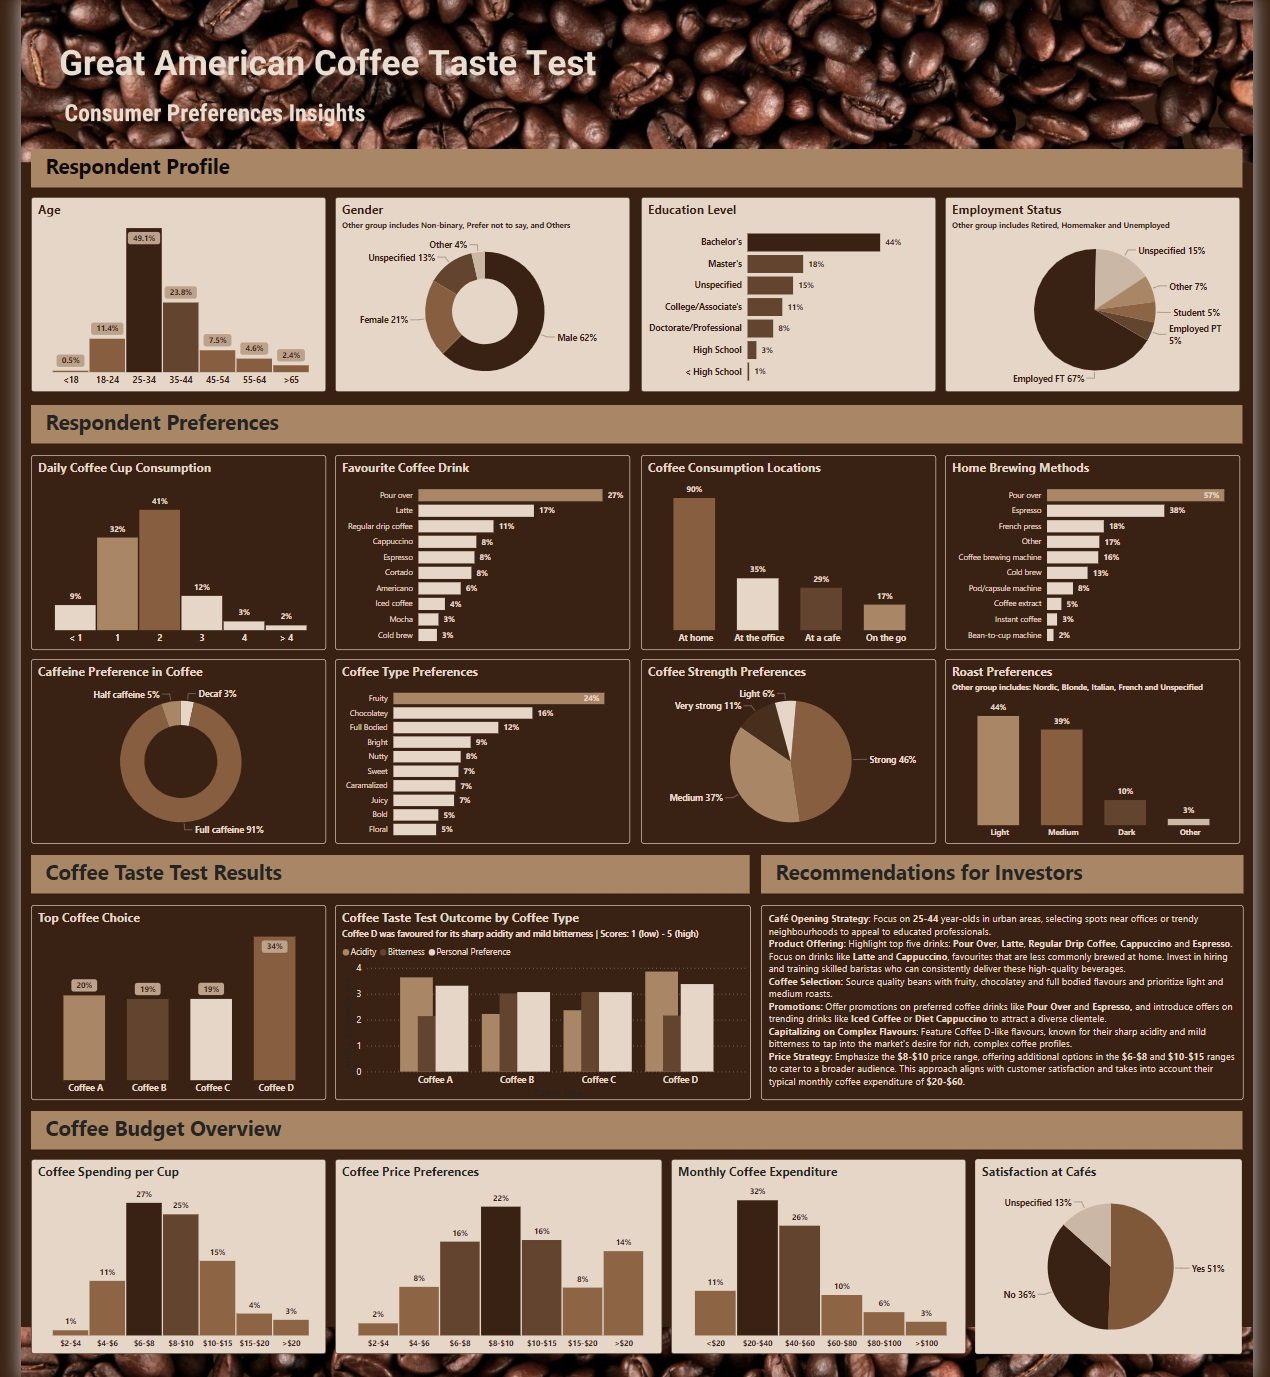

The dashboard page shown, as its layout file describes it:
{"tool":"powerbi","page":{"name":"Coffee Report","canvas":[1920,2160],"ordinal":0},"visuals":[{"type":"lineStackedColumnComboChart","title":" Daily Coffee Cup Consumption","fields":{"Category":["Cups per Day.# of Cups per Day"],"Y":["Measure Table.COUNT Percentage"]},"box":[16,716,460,304],"z":0},{"type":"donutChart","title":"Gender","fields":{"Y":["Measure Table.COUNT"],"Category":["Responses.Gender (groups)"]},"box":[490,316,460,304],"z":1000},{"type":"barChart","title":"Education Level","fields":{"Category":["Responses.Education Level"],"Y":["Measure Table.COUNT Percentage"]},"box":[965,316,460,304],"z":2000},{"type":"pieChart","title":"Employment Status","fields":{"Category":["Responses.Employment Status (groups)"],"Y":["Measure Table.COUNT"]},"box":[1440,316,460,304],"z":3000},{"type":"barChart","title":"Home Brewing Methods","fields":{"Category":["How to Brew.How do you brew coffee at home?"],"Y":["How to Brew.Sum of Values How Percentage"]},"box":[1440,716,460,304],"z":4000},{"type":"columnChart","title":"Coffee Consumption Locations","fields":{"Category":["Where to Drink.Where do you drink coffee?"],"Y":["Where to Drink.Sum of Values Percentage"]},"box":[965.3,716,460,304],"z":5000},{"type":"barChart","title":"Favourite Coffee Drink","fields":{"Category":["Responses.Favorite coffee drink"],"Y":["Measure Table.COUNT Percentage"]},"box":[490.7,716,460,304],"z":6000},{"type":"columnChart","title":"Age","fields":{"Category":["Age Table.Age"],"Y":["Measure Table.COUNT Percentage"]},"box":[15,316,460,304],"z":7000},{"type":"clusteredBarChart","title":"Coffee Type Preferences ","fields":{"Category":["Responses.What kind of coffee you like?"],"Y":["Measure Table.COUNT Percentage"]},"box":[490.7,1036,460,288],"z":8000},{"type":"columnChart","title":"Roast Preferences","fields":{"Category":["Responses.What roast level of coffee do you prefer? (groups)"],"Y":["Measure Table.COUNT Percentage"]},"box":[1440,1036,460,288],"z":9000},{"type":"pieChart","title":"Coffee Strength Preferences","fields":{"Y":["Measure Table.COUNT"],"Category":["Responses.How strong do you like your coffee? (groups)"]},"box":[965.3,1036,460,288],"z":10000},{"type":"donutChart","title":"Caffeine Preference in Coffee","fields":{"Category":["Responses.How much caffeine do you like in your coffee?"],"Y":["Measure Table.COUNT"]},"box":[16,1036,460,288],"z":11000},{"type":"columnChart","title":"Top Coffee Choice","fields":{"Category":["Responses.Overall favorite coffee?"],"Y":["Measure Table.COUNT Percentage"]},"box":[16,1418,460,304],"z":12000},{"type":"columnChart","title":"Monthly Coffee Expenditure","fields":{"Category":["Total paid for coffee in a month.Paid in a month"],"Y":["Measure Table.COUNT Percentage"]},"box":[1014,1814,460,304],"z":13000},{"type":"columnChart","title":"Coffee Price Preferences ","fields":{"Category":["Willing to pay for coffee.Willing to pay"],"Y":["Measure Table.COUNT Percentage"]},"box":[490,1814,510,304],"z":14000},{"type":"clusteredColumnChart","title":"Coffee Spending per Cup","fields":{"Category":["Paid for a cup.Most paid for a cup"],"Y":["Measure Table.COUNT Percentage"]},"box":[16,1814,460,304],"z":15000},{"type":"textbox","box":[15,241,1888,60],"z":16000},{"type":"textbox","box":[16,1341,1120,60],"z":17000},{"type":"textbox","box":[16,637.5,1888,60],"z":19000},{"type":"textbox","box":[16,1738,1888,60],"z":20000},{"type":"lineClusteredColumnComboChart","title":"Coffee Taste Test Outcome by Coffee Type  ","fields":{"Category":["Test Results (2).Attribute.1"],"Y":["Measure Table.Acidity","Measure Table.Bitterness","Measure Table.Personal Preference"]},"box":[490,1418,648,304],"z":22000},{"type":"textbox","box":[1152,1418,752,304],"z":23000},{"type":"pieChart","title":"Satisfaction at Cafés","fields":{"Y":["Measure Table.COUNT"],"Category":["Responses.Good value for money at a cafe?"]},"box":[1488,1814,416,304],"z":25000},{"type":"textbox","box":[1152,1341,752,60],"z":26000}]}

Visuals, with their boxes in screenshot pixels (x1, y1, x2, y2):
" Daily Coffee Cup Consumption" lineStackedColumnComboChart: x1=21, y1=449, x2=321, y2=647
"Gender" donutChart: x1=330, y1=188, x2=630, y2=386
"Education Level" barChart: x1=640, y1=188, x2=940, y2=386
"Employment Status" pieChart: x1=949, y1=188, x2=1249, y2=386
"Home Brewing Methods" barChart: x1=949, y1=449, x2=1249, y2=647
"Coffee Consumption Locations" columnChart: x1=640, y1=449, x2=940, y2=647
"Favourite Coffee Drink" barChart: x1=331, y1=449, x2=630, y2=647
"Age" columnChart: x1=21, y1=188, x2=320, y2=386
"Coffee Type Preferences " clusteredBarChart: x1=331, y1=657, x2=630, y2=845
"Roast Preferences" columnChart: x1=949, y1=657, x2=1249, y2=845
"Coffee Strength Preferences" pieChart: x1=640, y1=657, x2=940, y2=845
"Caffeine Preference in Coffee" donutChart: x1=21, y1=657, x2=321, y2=845
"Top Coffee Choice" columnChart: x1=21, y1=906, x2=321, y2=1104
"Monthly Coffee Expenditure" columnChart: x1=672, y1=1164, x2=971, y2=1363
"Coffee Price Preferences " columnChart: x1=330, y1=1164, x2=663, y2=1363
"Coffee Spending per Cup" clusteredColumnChart: x1=21, y1=1164, x2=321, y2=1363
textbox: x1=21, y1=139, x2=1251, y2=178
textbox: x1=21, y1=856, x2=751, y2=895
textbox: x1=21, y1=398, x2=1252, y2=437
textbox: x1=21, y1=1115, x2=1252, y2=1154
"Coffee Taste Test Outcome by Coffee Type  " lineClusteredColumnComboChart: x1=330, y1=906, x2=752, y2=1104
textbox: x1=762, y1=906, x2=1252, y2=1104
"Satisfaction at Cafés" pieChart: x1=981, y1=1164, x2=1252, y2=1363
textbox: x1=762, y1=856, x2=1252, y2=895
